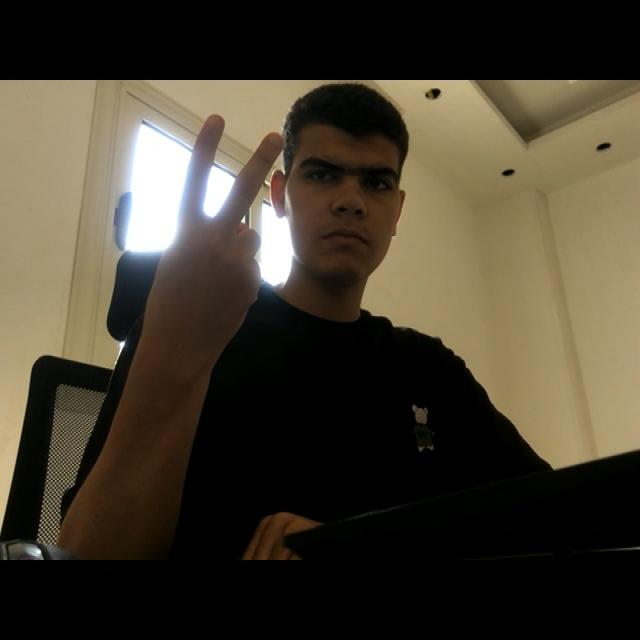Yes: (140, 100, 294, 437)
